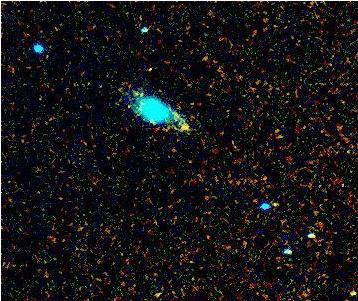star: (170, 112, 200, 142)
